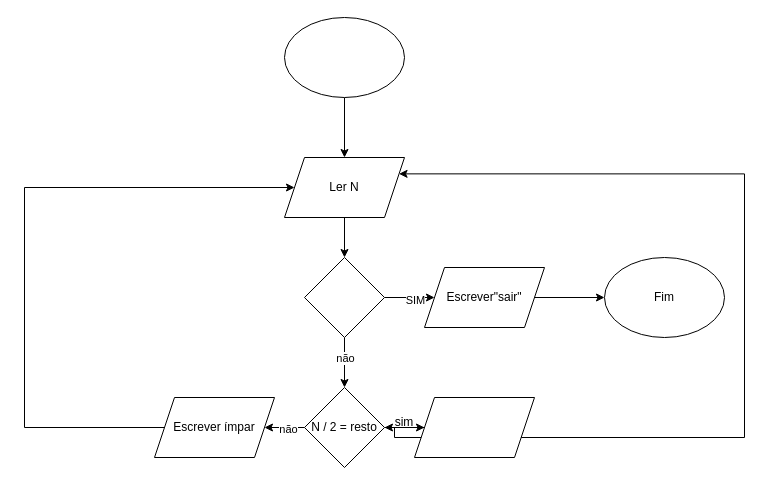
Image size: 770x485. Some labels were removed from this diagram. Each missing label, with the centre of its shape:
"Escrever par" belongs at point 474,427.
"Início" belongs at point 344,57.
"N = 0" belongs at point 344,297.
